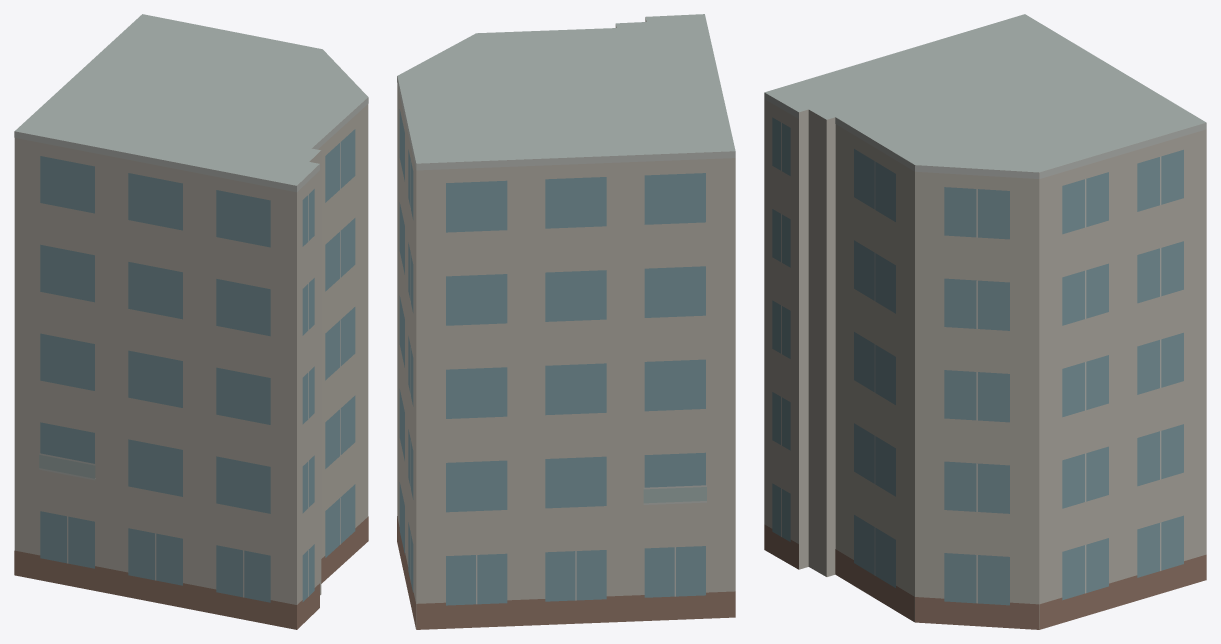
Rendered from survey-upis-32850433.glb.
3 renders of one model, left to right at view 1: azimuth 30°, elevation 25°; view 2: azimuth 150°, elevation 25°; view 3: azimuth 270°, elevation 25°, orthographic. The views are drawn at different scales.
Parts seen in each view (by area): view 1: survey-upis-32850433.tmp; view 2: survey-upis-32850433.tmp; view 3: survey-upis-32850433.tmp.
Part boxes in pixels (x1,y1,x2,y2): survey-upis-32850433.tmp: [14, 14, 368, 629]; survey-upis-32850433.tmp: [397, 14, 735, 629]; survey-upis-32850433.tmp: [764, 14, 1206, 629].
Bounding box in the file's own units: 12.46 × 16.75 × 14.69.
